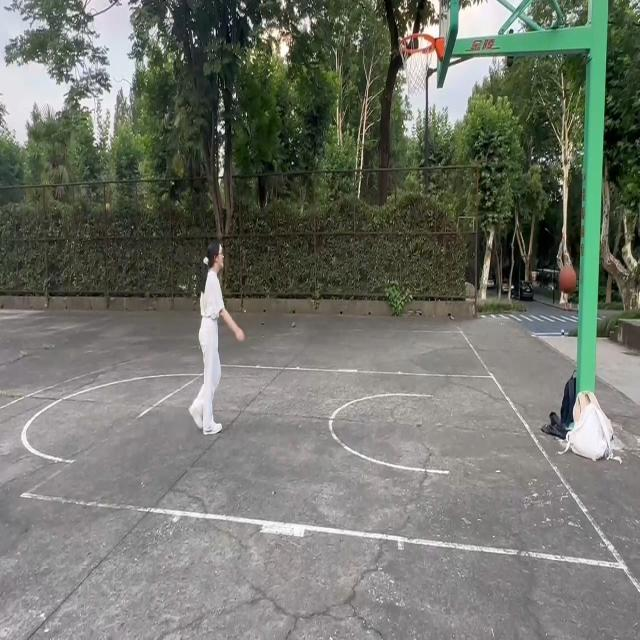basketball: (399, 34, 447, 100)
rim: (560, 266, 578, 294)
